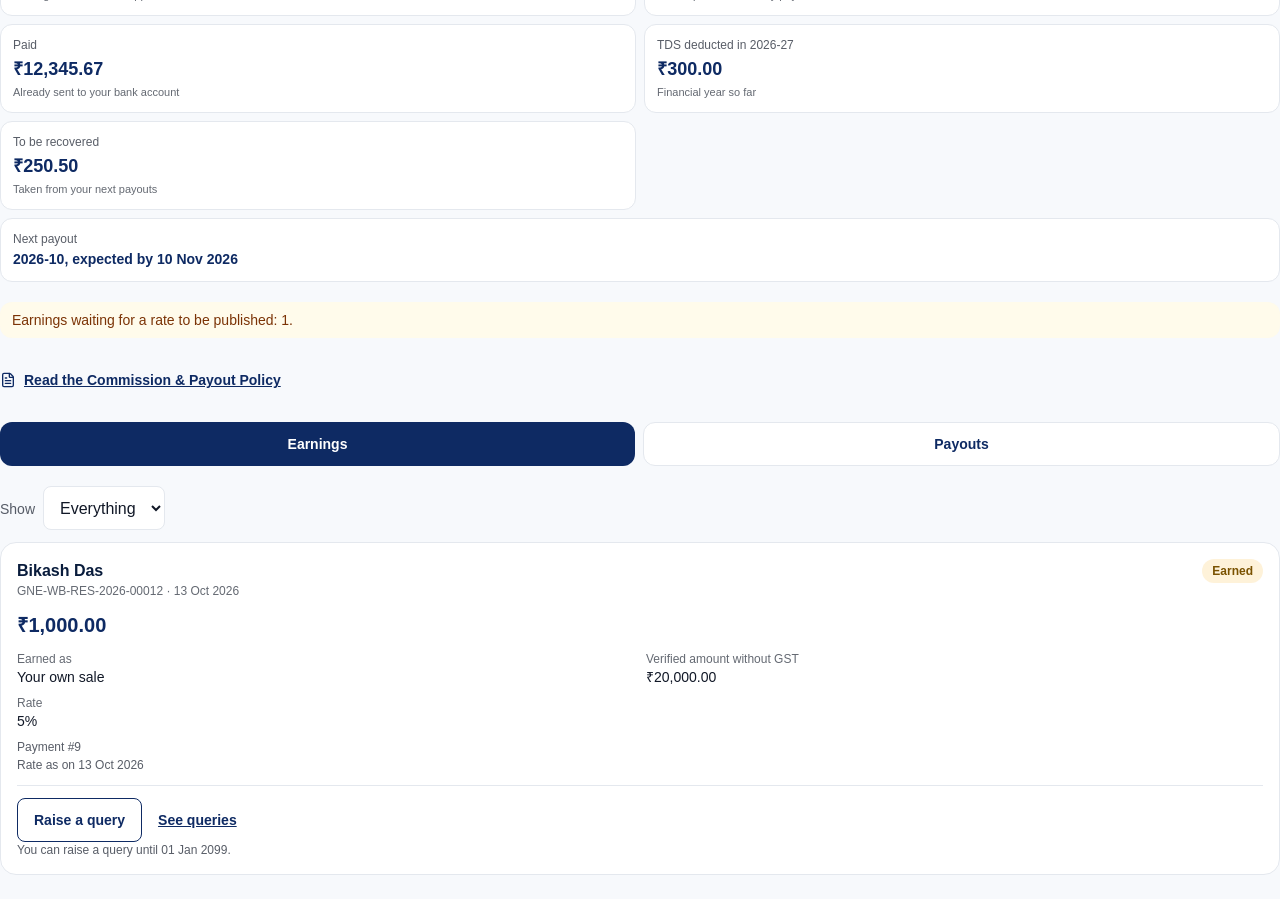
Test: Raise a query (E3) › translates the server’s refusal by code instead of showing its English
This screenshot has width=1280, height=899.
(page scrolled)
Click the button "Raise a query" at (80, 820), box [17,798,142,842]
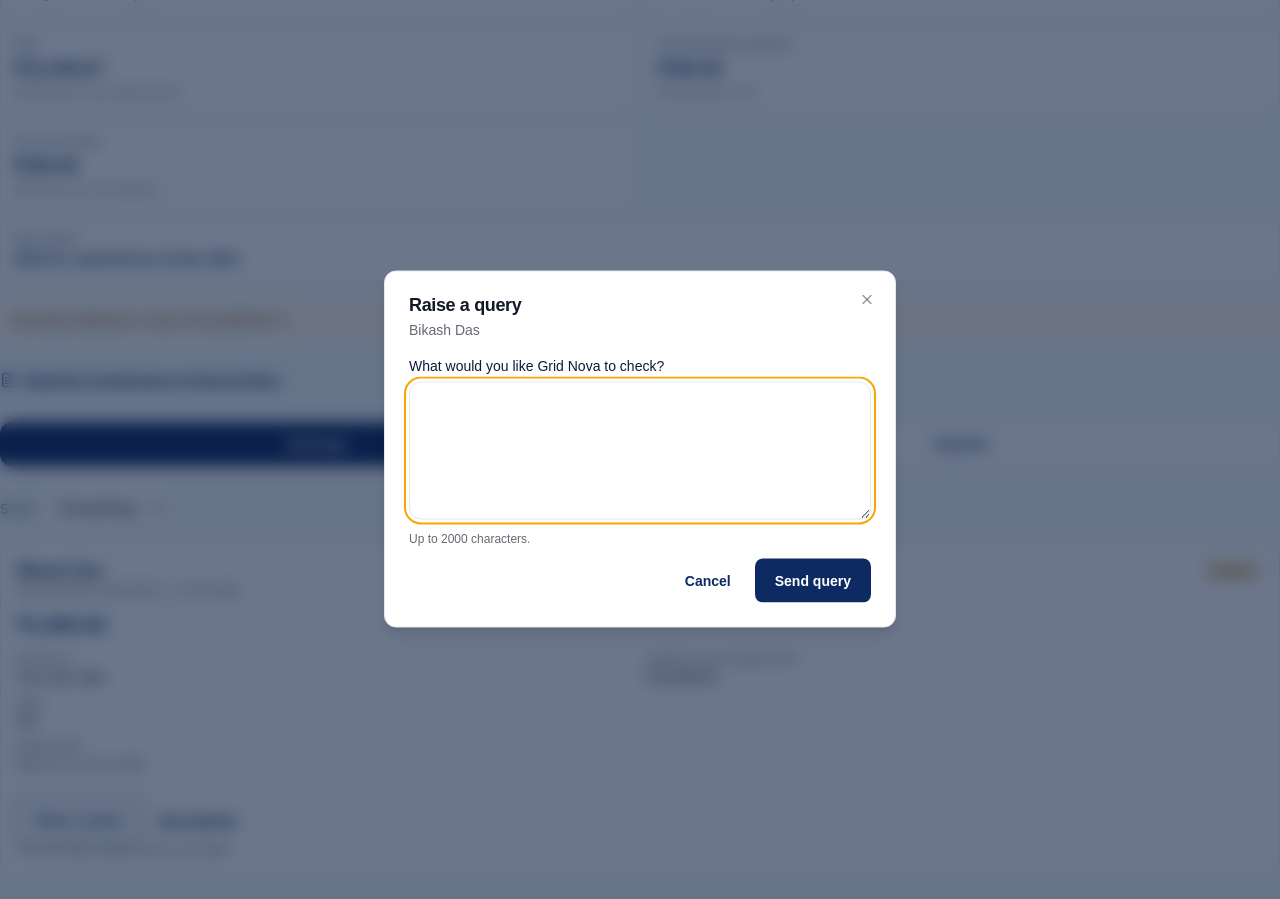
Type "hello" into the text box labelled "What would you like Grid Nova to check?" at (640, 450), box [409,382,871,520]
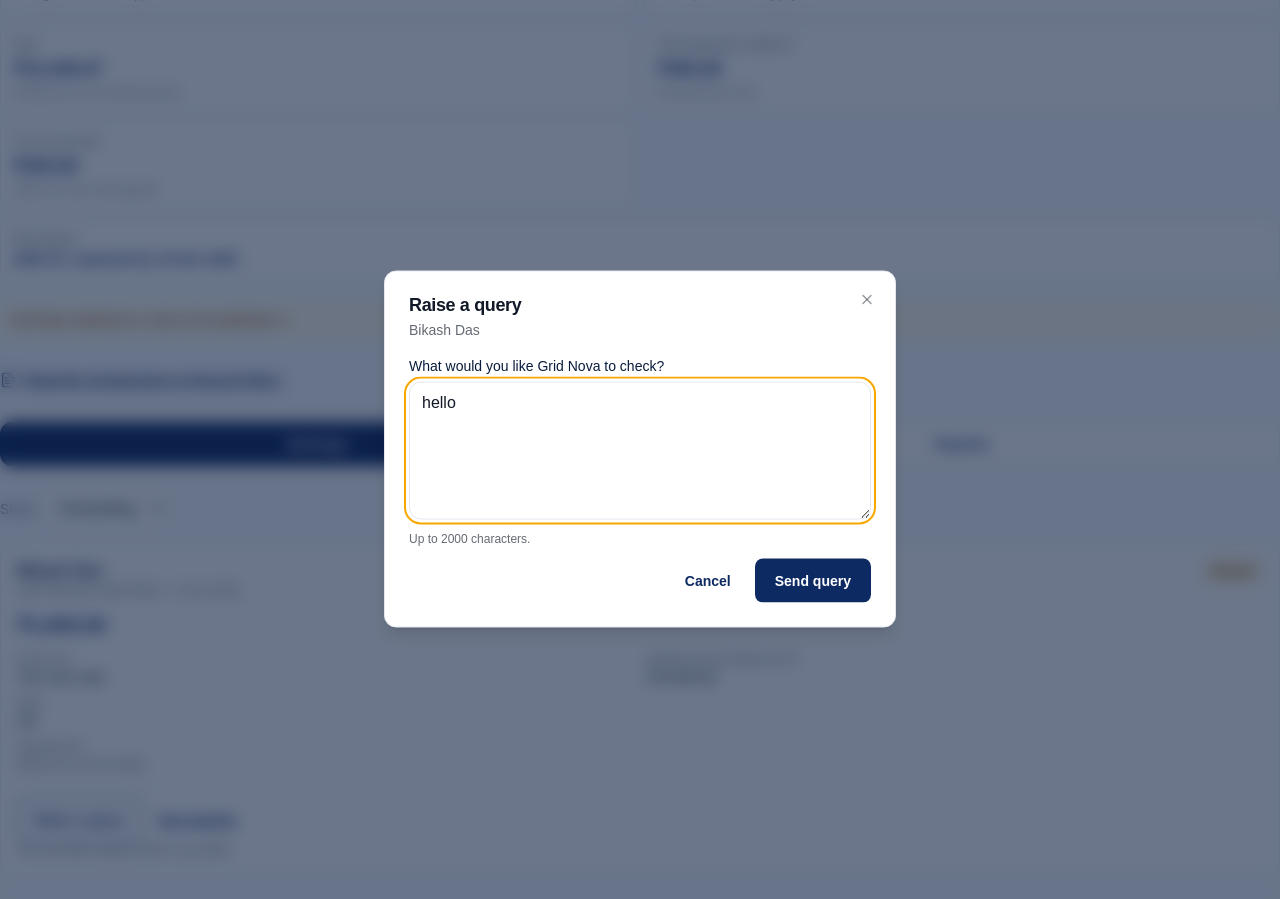
Click the button "Send query" at (813, 580), box [755,558,871,602]
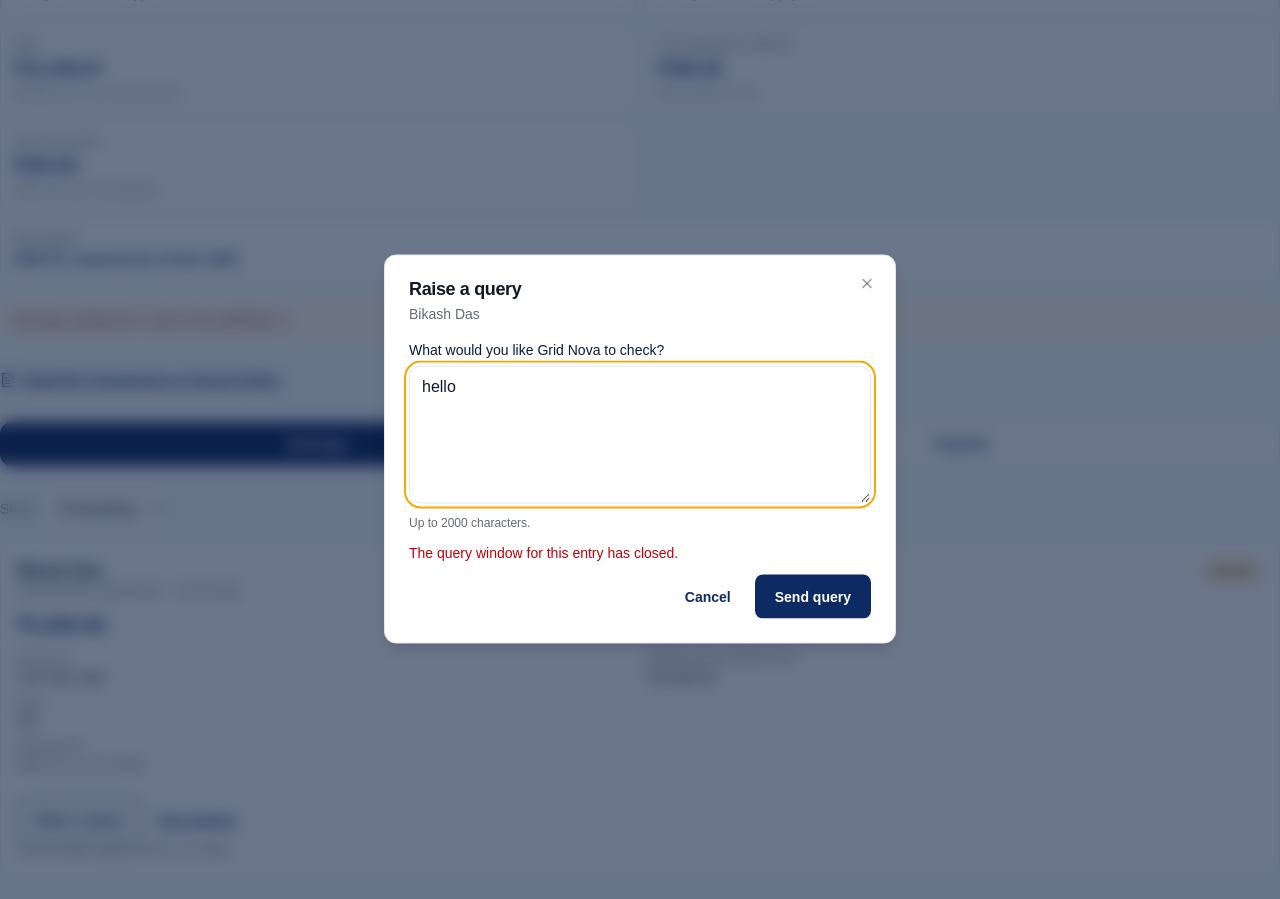
Result: the text "The query window for this entry has closed." is shown at [409,544,678,560]
